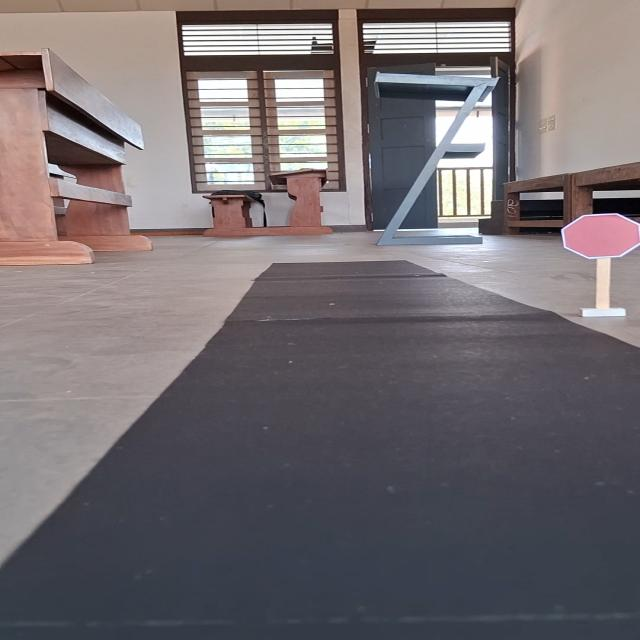Stop: (560, 212, 640, 258)
